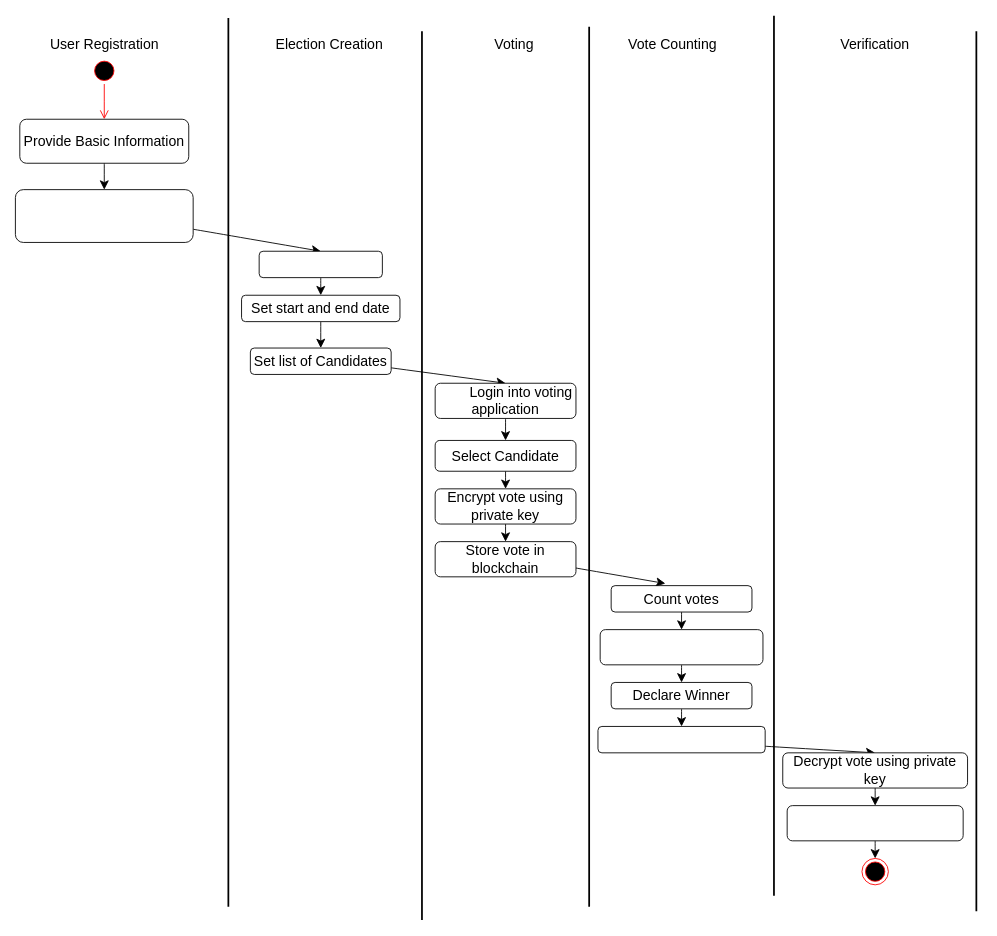
This 997x936 diagram has some shape labels left out. The shapes that lost their labels are listed below. From the top down, each one's box as (x1, y1, x2, y2) in pixels, then its label:
(15, 189, 193, 242): Store information in user database
(258, 250, 382, 278): Create an election
(599, 629, 763, 665): Tally votes using smart contract
(597, 726, 765, 753): Store results in blockchain
(786, 805, 963, 841): Verify vote was recorded correctly
